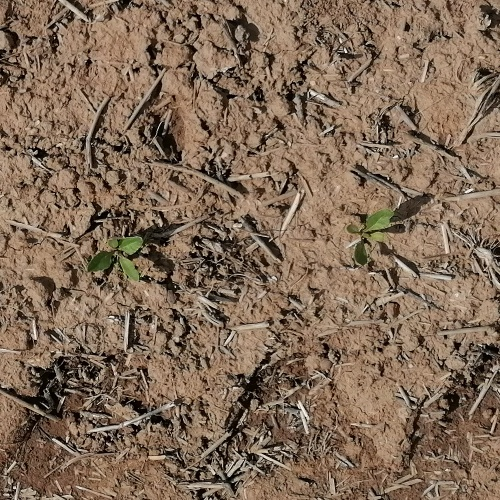beet: (343, 210, 394, 268), (87, 234, 144, 283)
